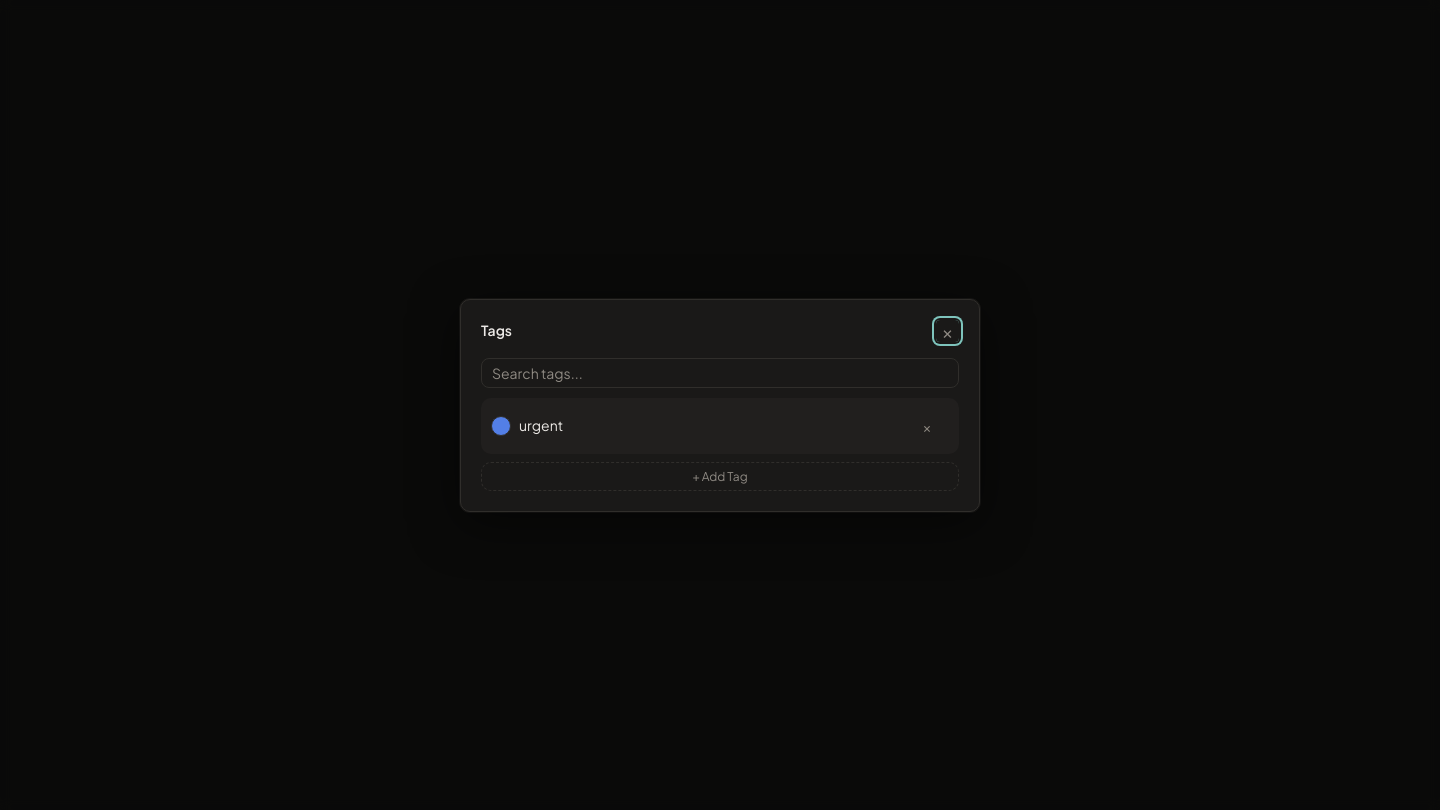
Test: TagEditor › rejects a case-insensitive duplicate name with an inline error
Expected: the text "urgent" is shown, [519,416,563,434]
Click the button "+ Add Tag" at {"x": 720, "y": 476}, box [481,462,959,490]
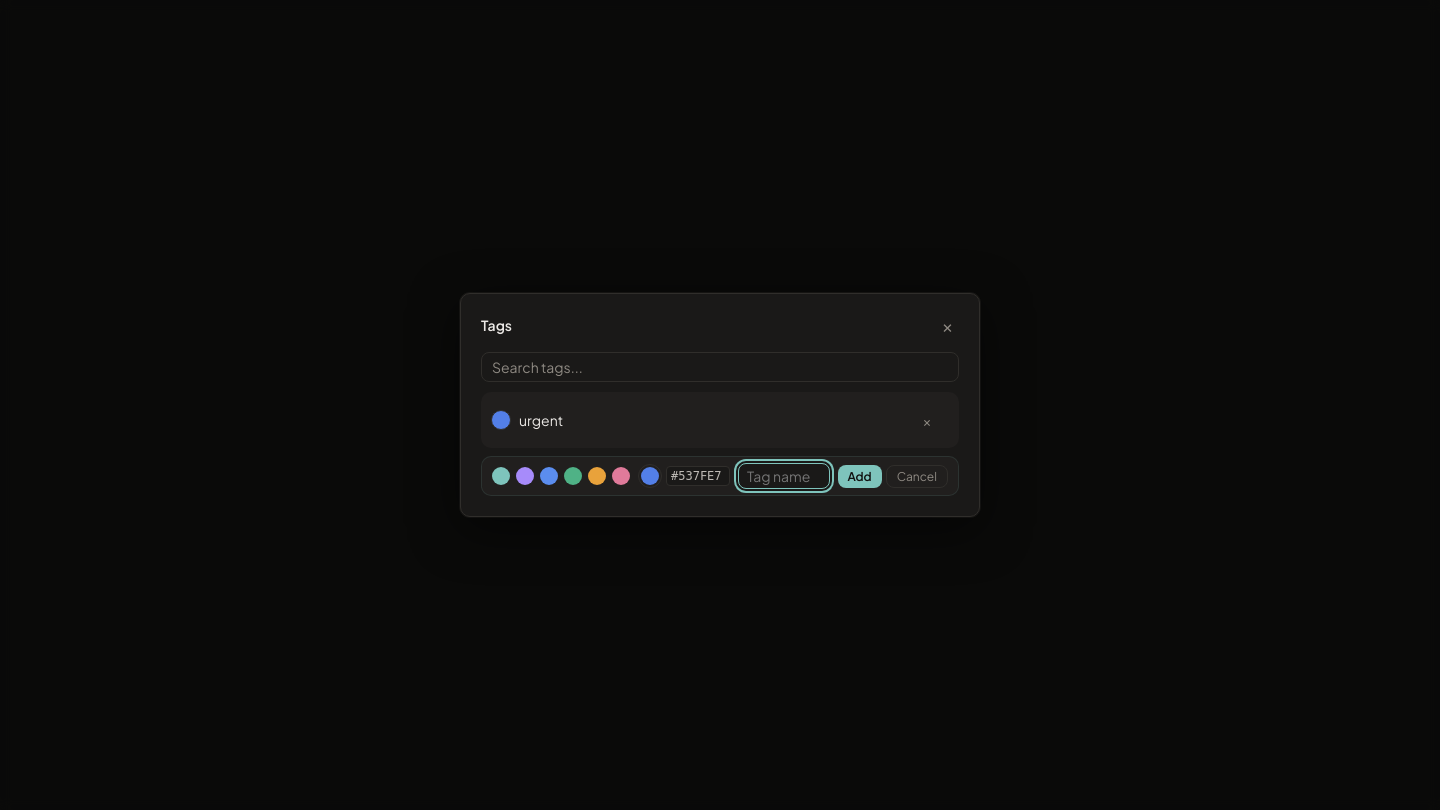
Type "URGENT" into the field with placeholder "Tag name" at {"x": 784, "y": 476}, box [738,463,830,489]
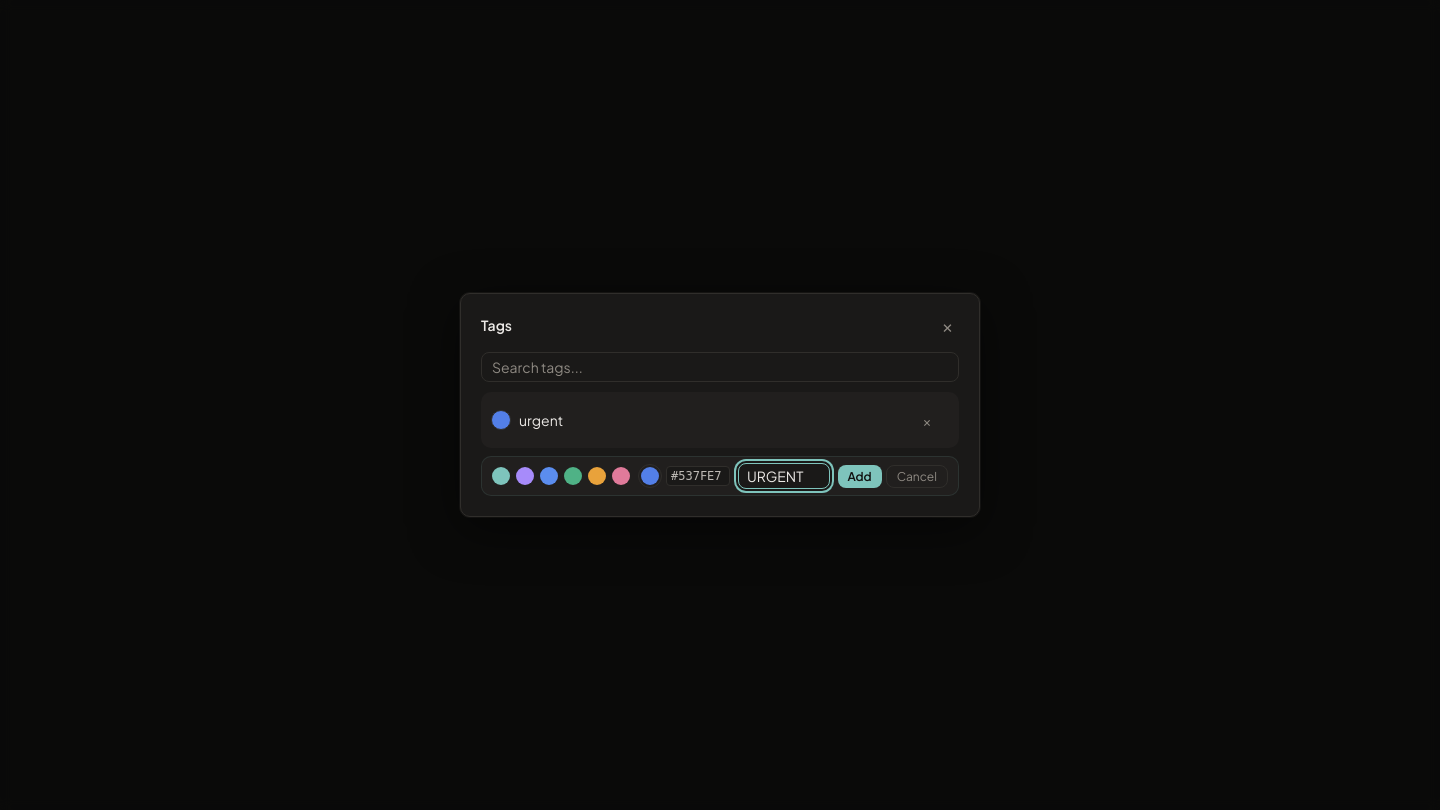
Click the button "Add" at {"x": 860, "y": 476}, box [838,464,882,488]
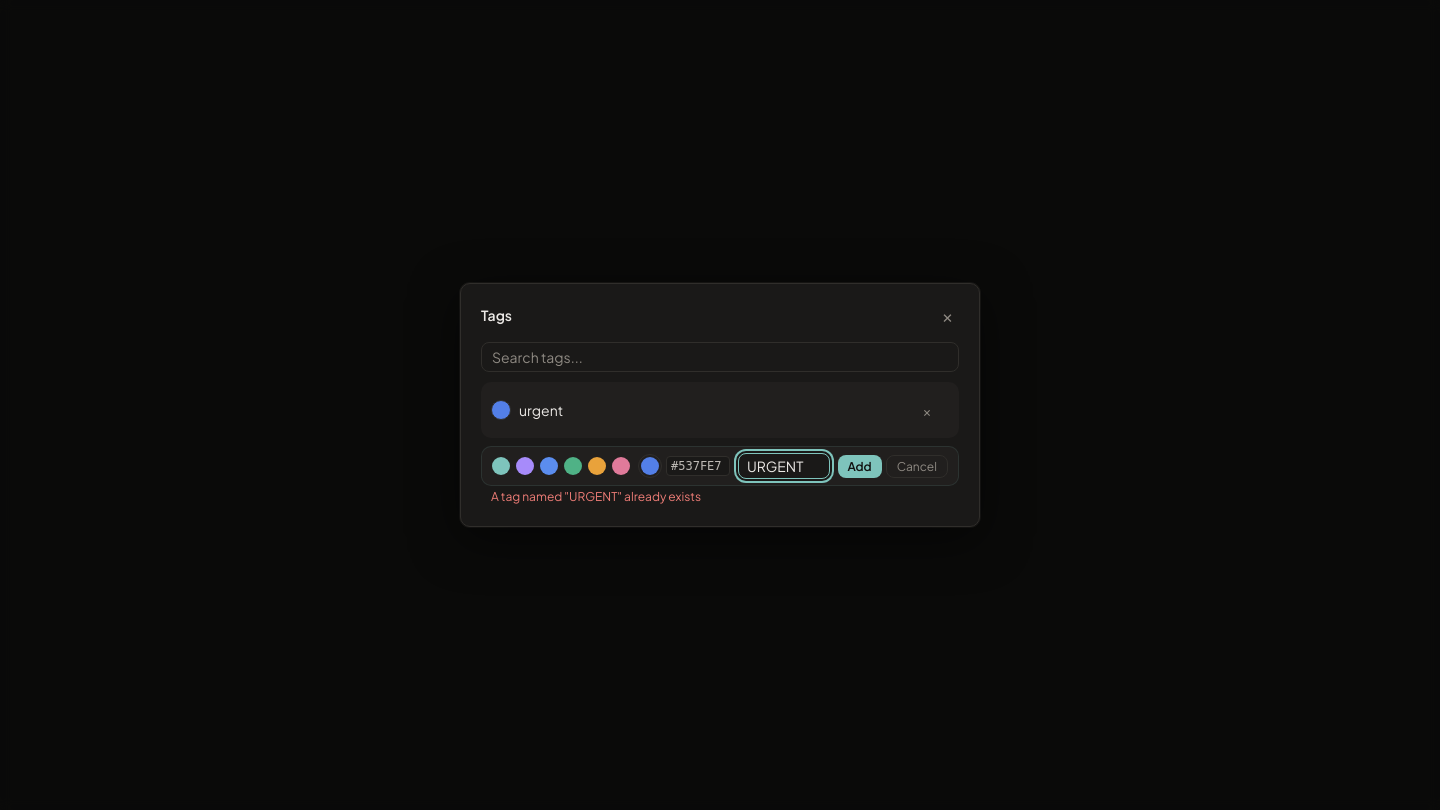
Now the text "already exists" is shown, box [491,489,701,504]
